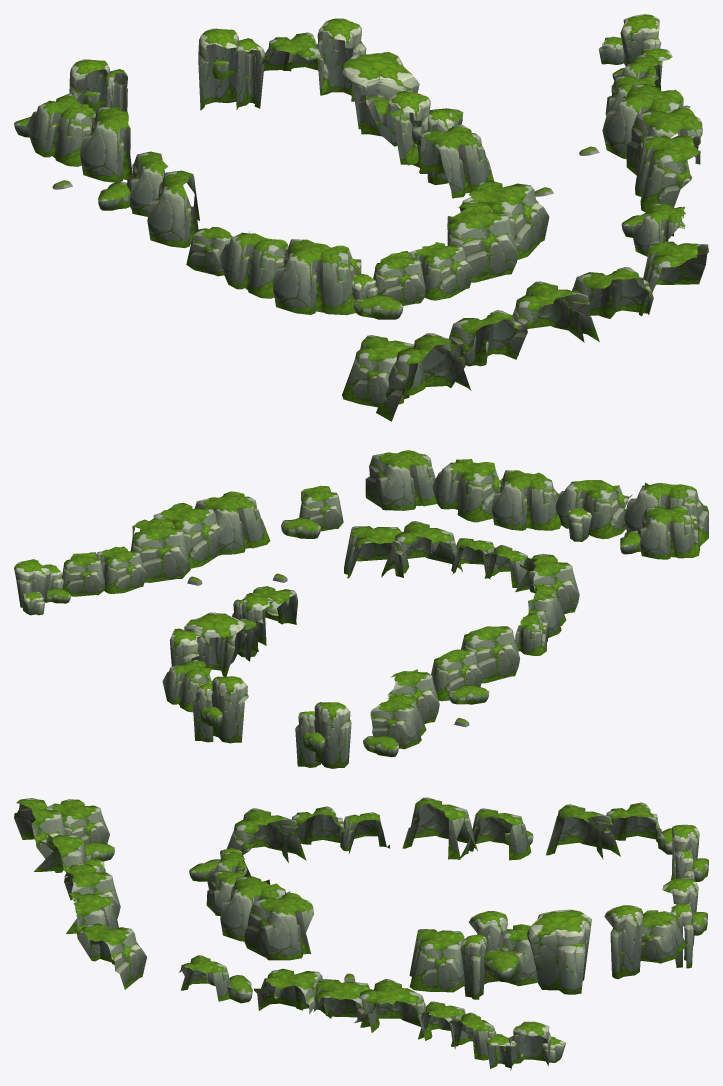
The model's file is lvyanshi_08.fbx.
3 renders of one model, top to bottom at view 1: azimuth 30°, elevation 25°; view 2: azimuth 150°, elevation 25°; view 3: azimuth 270°, elevation 25°, orthographic. The views are drawn at different scales.
Parts seen in each view (by area): view 1: polySurface250; view 2: polySurface250; view 3: polySurface250.
Part boxes in pixels (x1,y1,x2,y2): polySurface250: (14,14,708,421); polySurface250: (14,450,708,768); polySurface250: (14,797,708,1070).
Size of the model in its own units: 9251 by 1422 by 11101.
